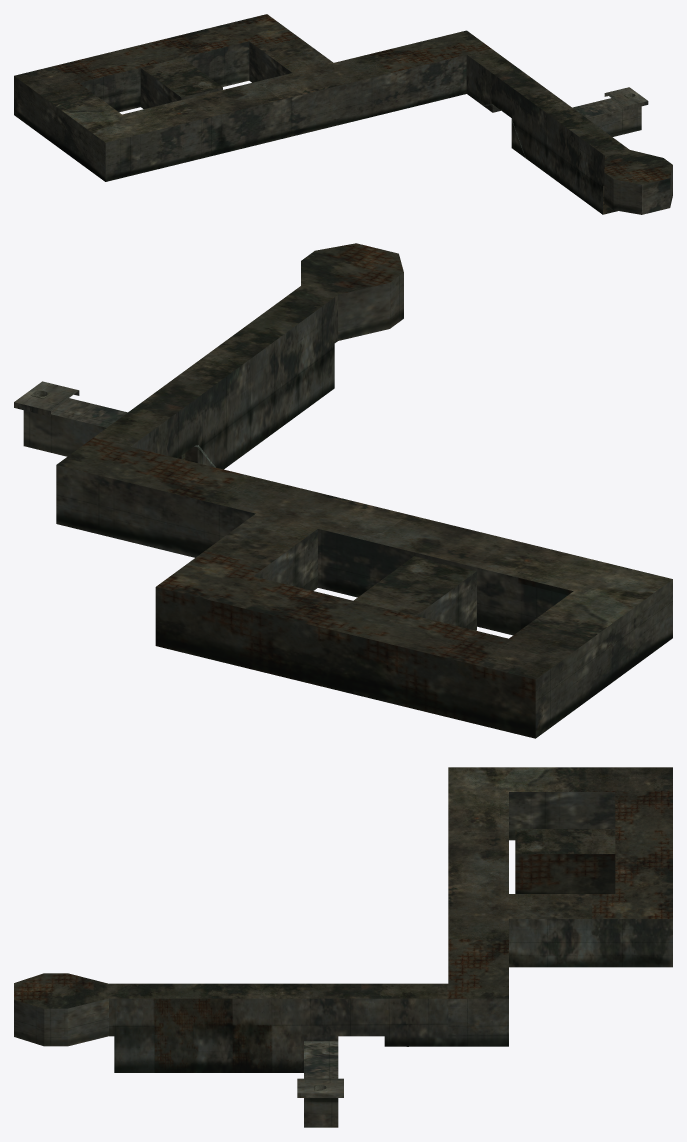
Rendered from Alcantarilla reformada alterada 002.fbx.
The picture shows the model from 3 angles, top to bottom: view 1: azimuth 30°, elevation 25°; view 2: azimuth 150°, elevation 25°; view 3: azimuth 270°, elevation 25°; orthographic projection. The views are drawn at different scales.
Parts seen in each view (by area): view 1: Alcantarilla; view 2: Alcantarilla; view 3: Alcantarilla.
Part boxes in pixels (left/top/right/bottom): Alcantarilla: left=14, top=14, right=672, bottom=214; Alcantarilla: left=14, top=243, right=672, bottom=738; Alcantarilla: left=14, top=767, right=672, bottom=1127.
Size of the model in its own units: 11591 by 1398 by 11194.
